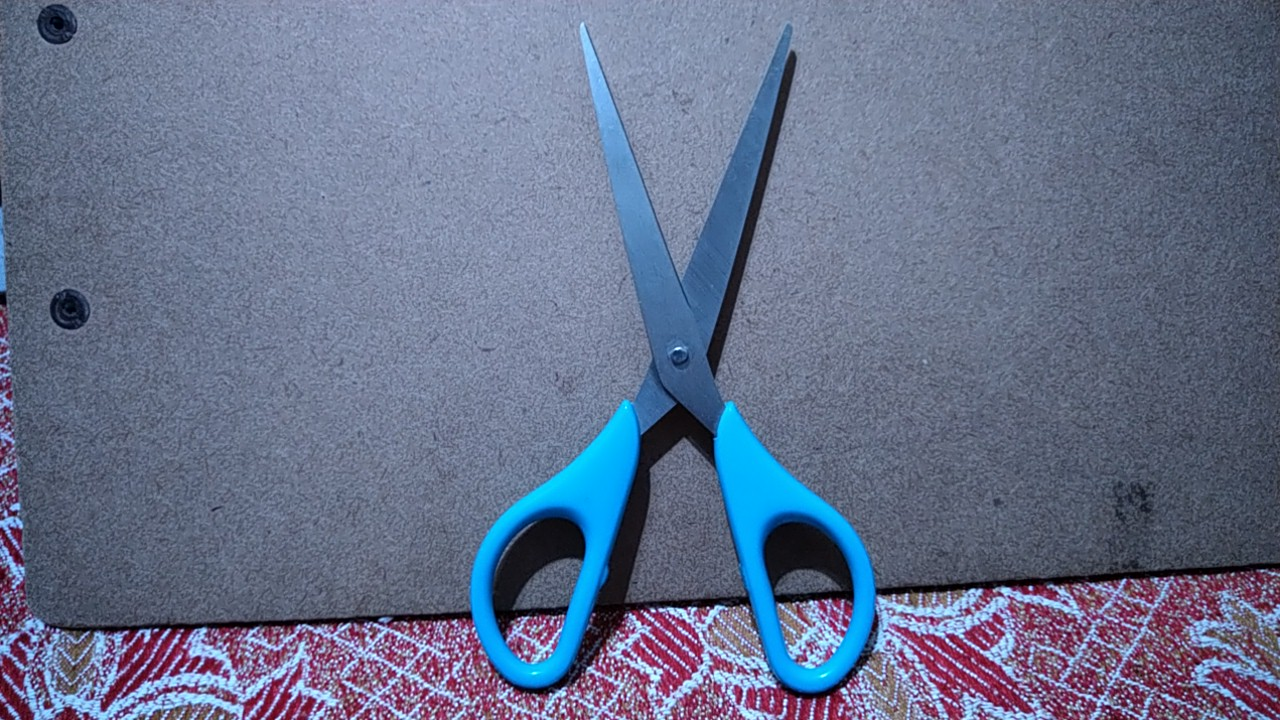scissor: (451, 7, 894, 708)
